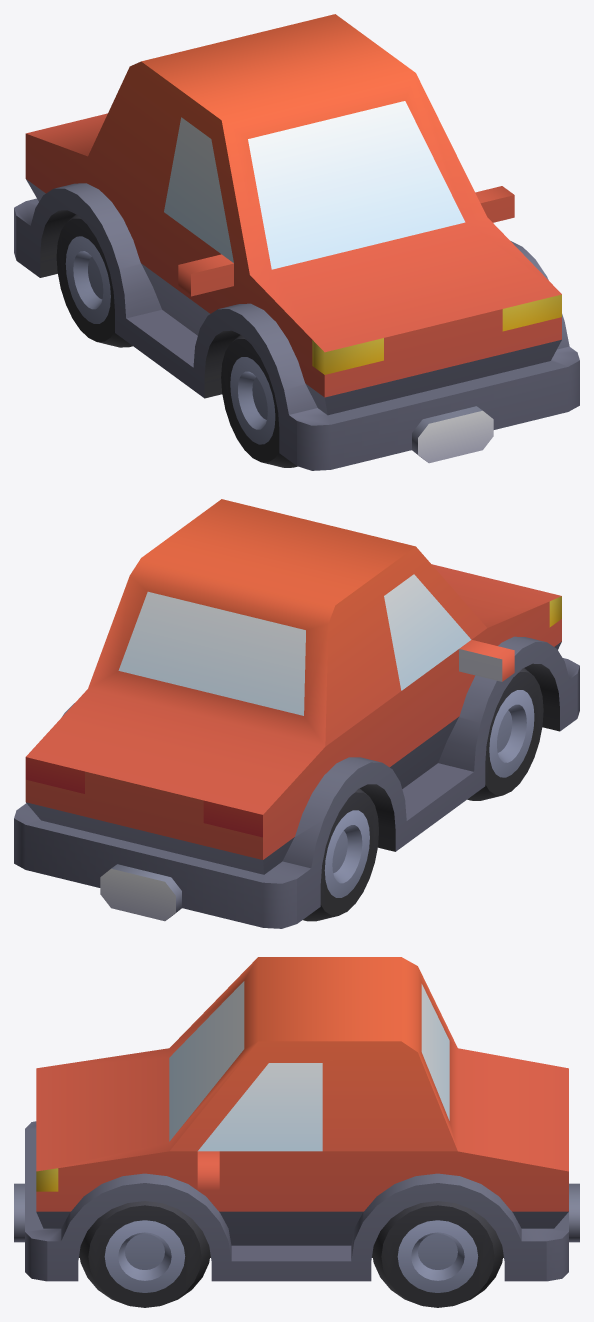
File: sedan.glb
3 renders of one model, top to bottom at view 1: azimuth 30°, elevation 25°; view 2: azimuth 150°, elevation 25°; view 3: azimuth 270°, elevation 25°, orthographic. The views are drawn at different scales.
Parts seen in each view (by area): view 1: body, wheel-front-right, wheel-back-right; view 2: body, wheel-back-right, wheel-front-right; view 3: body, wheel-back-left, wheel-front-left.
Boxes of the visible parts, bbox=[...] form: body: bbox=[14, 14, 579, 470]; wheel-front-right: bbox=[221, 335, 297, 467]; wheel-back-right: bbox=[56, 214, 132, 347]; body: bbox=[14, 499, 579, 928]; wheel-back-right: bbox=[303, 788, 378, 921]; wheel-front-right: bbox=[467, 668, 543, 800]; body: bbox=[14, 957, 579, 1281]; wheel-back-left: bbox=[372, 1201, 503, 1307]; wheel-front-left: bbox=[79, 1201, 210, 1307].
Bounding box in the file's own units: 1.5 × 1.3 × 2.55.
Materials: 1 (1 with a texture image).
